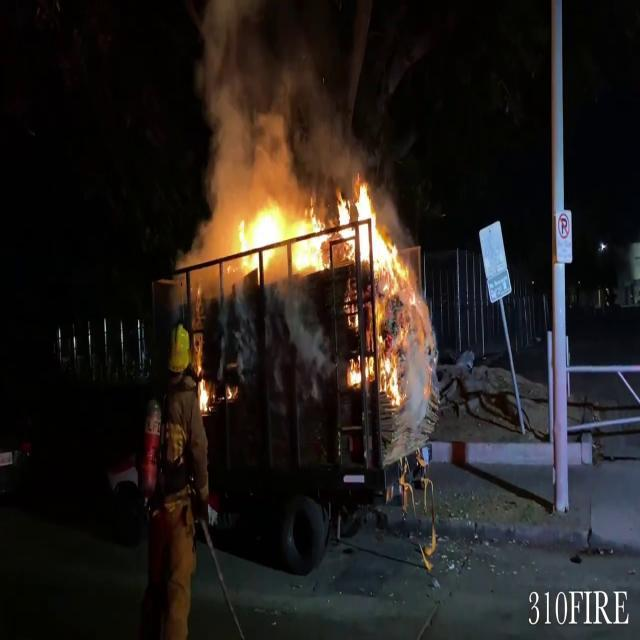Fire: (338, 176, 416, 402), (230, 187, 328, 280), (197, 372, 213, 418)
Smoke: (185, 0, 363, 203)
